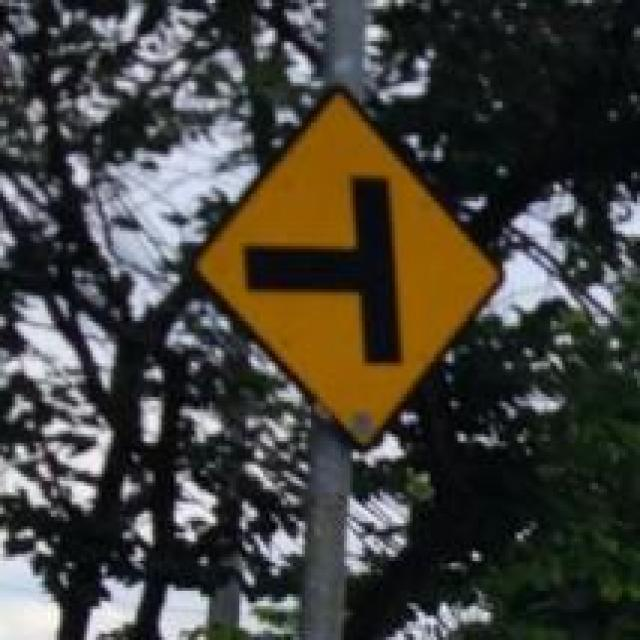traffic sign: (213, 95, 500, 440)
